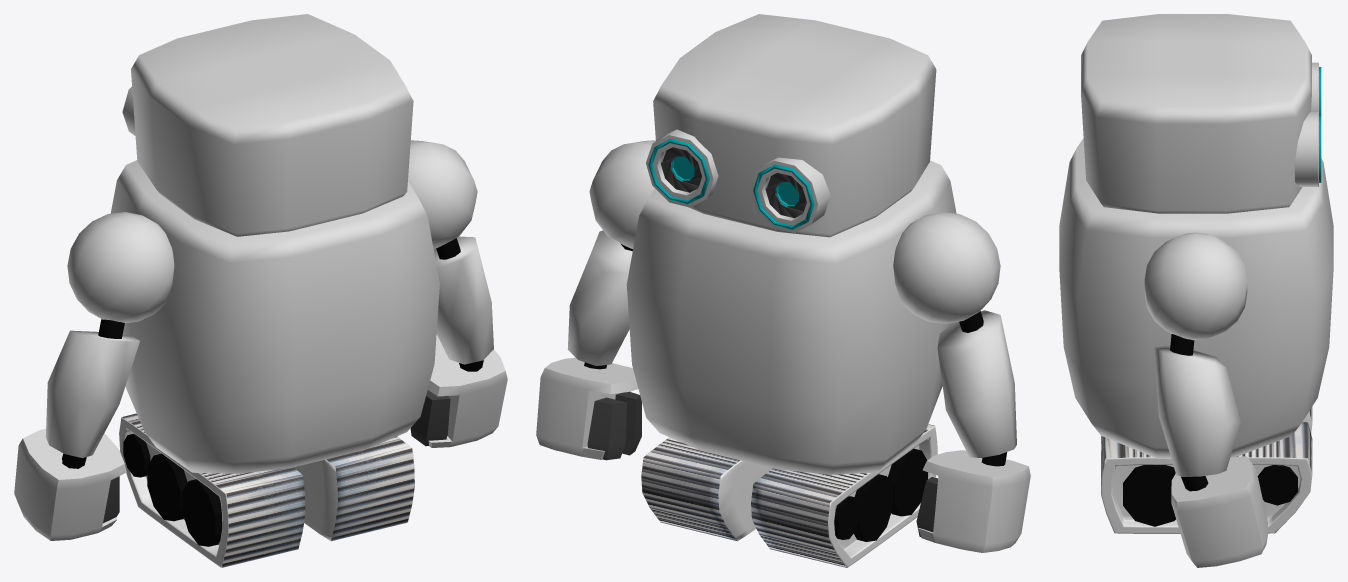
Rendered from Brute Bot.fbx.
3 views of the same model, side by side, from view 1: azimuth 30°, elevation 25°; view 2: azimuth 150°, elevation 25°; view 3: azimuth 270°, elevation 25° (orthographic). The views are drawn at different scales.
Parts seen in each view (by area): view 1: pCube2, pCube1, polySurface24, polySurface16, polySurface10, polySurface14, polySurface7, polySurface3, polySurface23, polySurface22, polySurface6, polySurface21; view 2: pCube2, pCube1, polySurface24, polySurface16, polySurface10, polySurface14, polySurface7, polySurface3, polySurface34, polySurface30, polySurface5, polySurface22 (+8 smaller); view 3: pCube2, pCube1, polySurface3, polySurface16, polySurface7, polySurface24, polySurface19, polySurface30, polySurface17, polySurface4, polySurface34.
Boxes of the visible parts, left/top/right/bottom form: pCube2: left=110, top=160, right=439, bottom=473; pCube1: left=131, top=14, right=413, bottom=236; polySurface24: left=119, top=413, right=414, bottom=567; polySurface16: left=45, top=236, right=493, bottom=457; polySurface10: left=67, top=212, right=174, bottom=323; polySurface14: left=14, top=429, right=126, bottom=540; polySurface7: left=428, top=334, right=507, bottom=447; polySurface3: left=408, top=140, right=477, bottom=249; polySurface23: left=182, top=479, right=222, bottom=546; polySurface22: left=147, top=453, right=187, bottom=521; polySurface6: left=410, top=390, right=450, bottom=446; polySurface21: left=123, top=433, right=150, bottom=477; pCube2: left=626, top=160, right=956, bottom=474; pCube1: left=653, top=14, right=936, bottom=237; polySurface24: left=641, top=424, right=937, bottom=567; polySurface16: left=567, top=230, right=1016, bottom=457; polySurface10: left=893, top=212, right=1000, bottom=323; polySurface14: left=918, top=450, right=1030, bottom=552; polySurface7: left=536, top=357, right=638, bottom=459; polySurface3: left=589, top=140, right=655, bottom=249; polySurface34: left=750, top=157, right=830, bottom=232; polySurface30: left=646, top=129, right=718, bottom=207; polySurface5: left=587, top=397, right=626, bottom=460; polySurface22: left=853, top=474, right=892, bottom=541; pCube2: left=1059, top=138, right=1333, bottom=459; pCube1: left=1081, top=14, right=1311, bottom=213; polySurface3: left=1144, top=232, right=1247, bottom=340; polySurface16: left=1154, top=345, right=1240, bottom=476; polySurface7: left=1171, top=456, right=1267, bottom=567; polySurface24: left=1101, top=407, right=1312, bottom=533; polySurface19: left=1123, top=465, right=1175, bottom=526; polySurface30: left=1294, top=112, right=1318, bottom=186; polySurface17: left=1257, top=465, right=1297, bottom=505; polySurface4: left=1170, top=334, right=1194, bottom=355; polySurface34: left=1311, top=62, right=1318, bottom=111.
Size of the model in its own units: 2.74 by 2.52 by 1.46.
